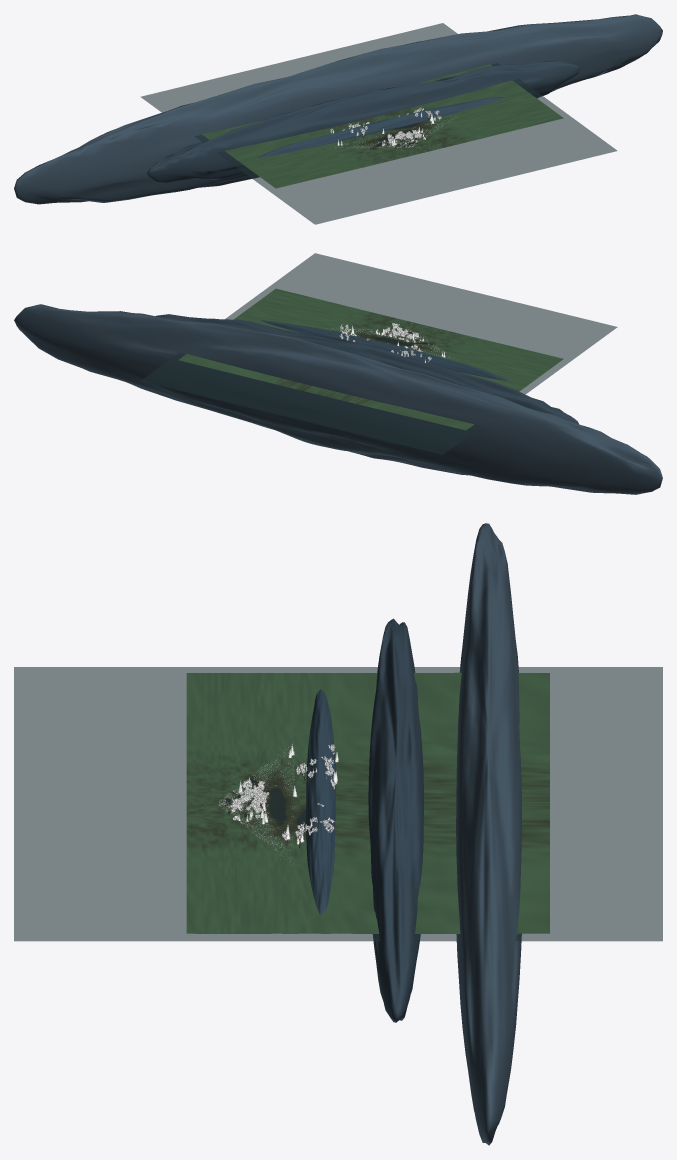
File: marsh.glb
The picture shows the model from 3 angles, top to bottom: view 1: azimuth 30°, elevation 25°; view 2: azimuth 150°, elevation 25°; view 3: azimuth 270°, elevation 25°; orthographic projection. The views are drawn at different scales.
Parts seen in each view (by area): view 1: Ridge2, WaterPlane, Ground, Ridge1, Hill, FarLeaves; view 2: Ridge2, WaterPlane, Ground, Ridge1, Hill; view 3: WaterPlane, Ground, Ridge2, Ridge1, Hill, FarLeaves.
Part boxes in pixels (box(x1,y1,x2,y2)): Ridge2: box(14, 14, 662, 204); WaterPlane: box(141, 23, 617, 224); Ground: box(202, 64, 563, 188); Ridge1: box(147, 61, 579, 183); Hill: box(257, 97, 506, 157); FarLeaves: box(329, 107, 441, 145); Ridge2: box(14, 304, 662, 494); WaterPlane: box(141, 253, 617, 454); Ground: box(178, 288, 563, 430); Ridge1: box(155, 314, 578, 424); Hill: box(260, 320, 509, 381); WaterPlane: box(14, 667, 662, 941); Ground: box(186, 672, 549, 933); Ridge2: box(456, 523, 521, 1145); Ridge1: box(368, 618, 423, 1022); Hill: box(306, 689, 335, 914); FarLeaves: box(282, 744, 338, 844).
Bounding box in the file's own units: 1200 × 177 × 560.
11 materials, 1 textured.
